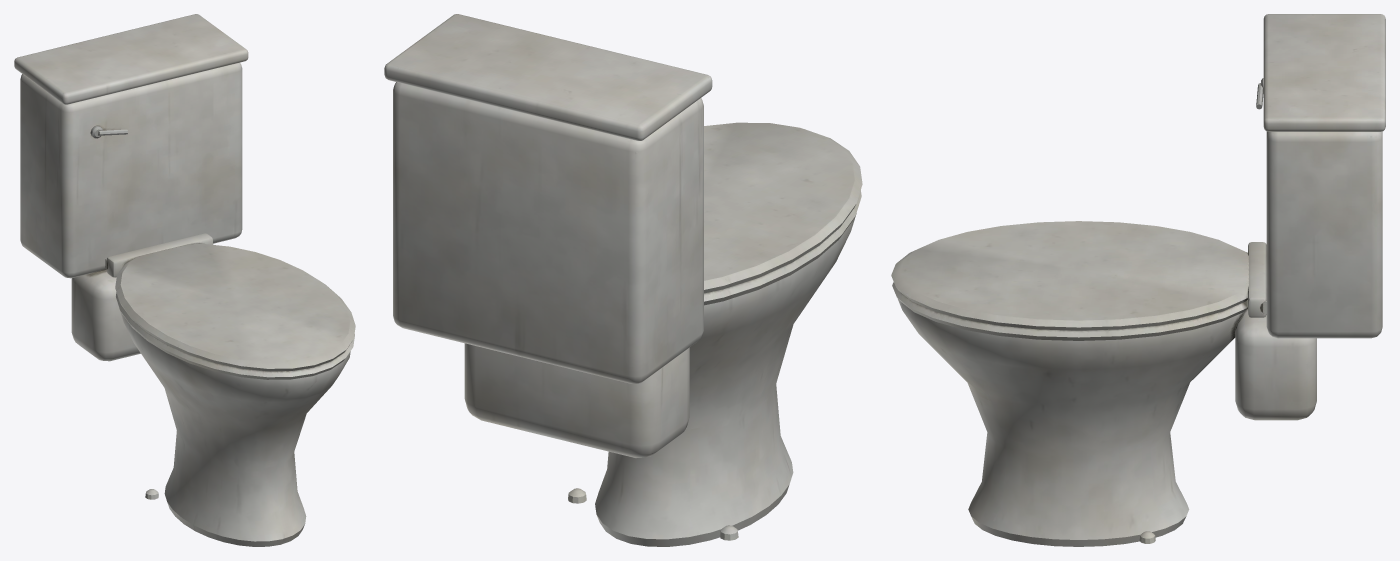
Rendered from vaso_sanitario.glb.
The picture shows the model from 3 angles, left to right: view 1: azimuth 30°, elevation 25°; view 2: azimuth 150°, elevation 25°; view 3: azimuth 270°, elevation 25°; orthographic projection. The views are drawn at different scales.
Visible parts, largest first — view 1: vaso, assento, tampa_caixa; view 2: vaso, tampa_caixa, assento; view 3: vaso, assento, tampa_caixa.
Boxes of the visible parts, box(x1,y1,x2,y2) form: vaso: box(20, 62, 350, 546); assento: box(104, 233, 355, 379); tampa_caixa: box(14, 14, 248, 104); vaso: box(393, 82, 856, 546); tampa_caixa: box(384, 14, 712, 140); assento: box(704, 122, 862, 305); vaso: box(897, 78, 1382, 546); assento: box(891, 221, 1266, 340); tampa_caixa: box(1263, 14, 1385, 131).
Bounding box in the file's own units: 0.404 × 0.795 × 0.7894.
Materials: 2 (2 with a texture image).
